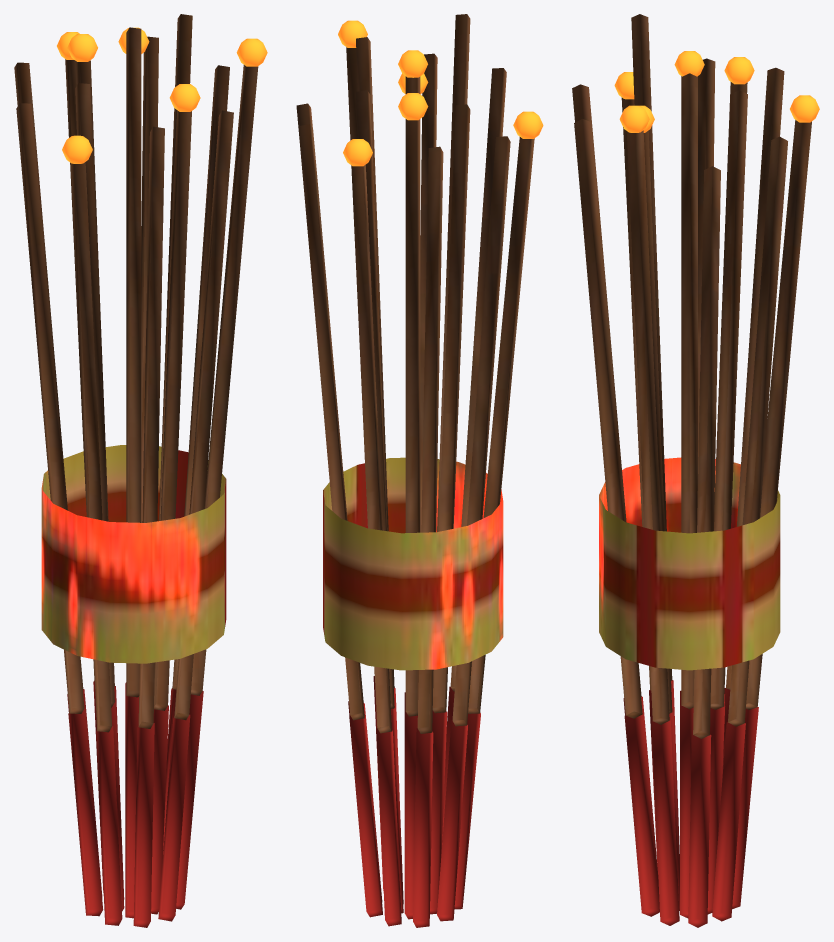
The model's file is incense.glb.
3 renders of one model, left to right at view 1: azimuth 30°, elevation 25°; view 2: azimuth 150°, elevation 25°; view 3: azimuth 270°, elevation 25°, orthographic. The views are drawn at different scales.
Visible parts, largest first — view 1: IncenseSticks, IncenseBand, IncenseFeet, IncenseEmbers; view 2: IncenseSticks, IncenseBand, IncenseFeet, IncenseEmbers; view 3: IncenseSticks, IncenseBand, IncenseFeet, IncenseEmbers.
Boxes of the visible parts, box(x1,y1,x2,y2) form: IncenseSticks: box(14, 14, 258, 732); IncenseBand: box(41, 445, 226, 663); IncenseFeet: box(67, 681, 203, 927); IncenseEmbers: box(57, 27, 267, 163); IncenseSticks: box(296, 14, 534, 733); IncenseBand: box(323, 457, 503, 670); IncenseFeet: box(348, 676, 480, 927); IncenseEmbers: box(338, 20, 543, 166); IncenseSticks: box(572, 14, 811, 738); IncenseBand: box(599, 457, 780, 670); IncenseFeet: box(623, 680, 758, 927); IncenseEmbers: box(614, 51, 819, 132).
Size of the model in its own units: 0.0806 by 0.3202 by 0.082.
Materials: 4 (2 with a texture image).
